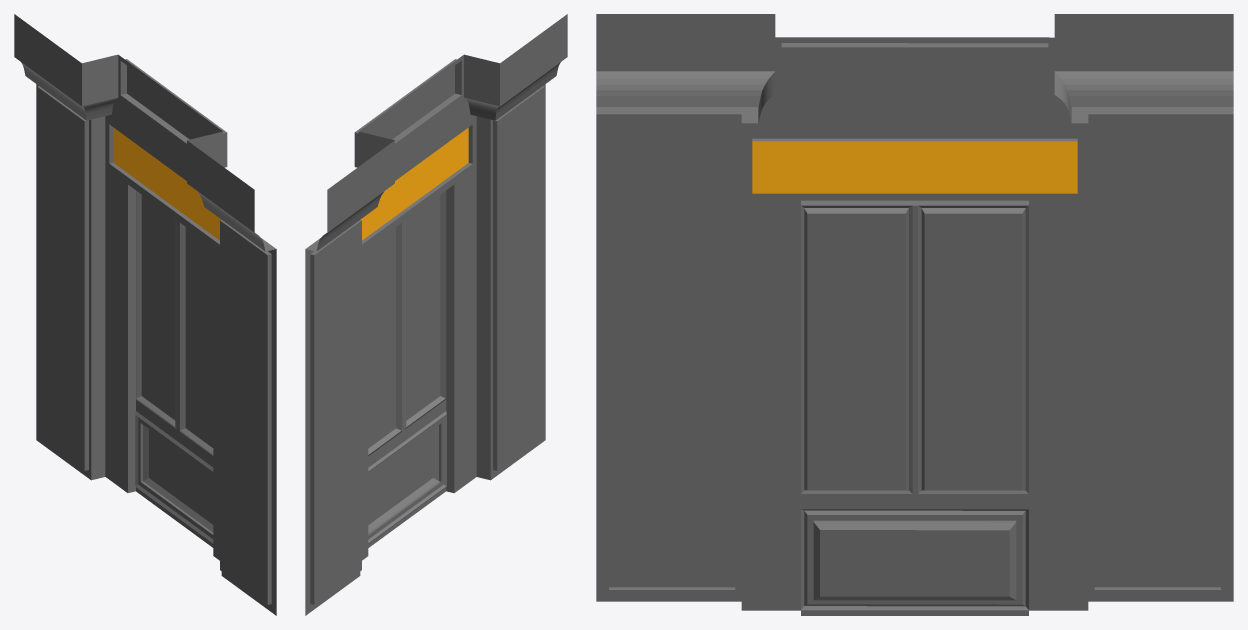
The model's file is O2_Facade_Porte_Dans_2_Poteaux.fbx.
3 views of the same model, side by side, from view 1: azimuth 30°, elevation 25°; view 2: azimuth 150°, elevation 25°; view 3: azimuth 270°, elevation 25° (orthographic). The views are drawn at different scales.
Parts seen in each view (by area): view 1: O_Facade_Porte_Dans_2_Poteaux; view 2: O_Facade_Porte_Dans_2_Poteaux; view 3: O_Facade_Porte_Dans_2_Poteaux.
Part boxes in pixels (x1,y1,x2,y2): O_Facade_Porte_Dans_2_Poteaux: [14, 14, 276, 615]; O_Facade_Porte_Dans_2_Poteaux: [305, 14, 567, 615]; O_Facade_Porte_Dans_2_Poteaux: [596, 14, 1233, 615].
Size of the model in its own units: 0.3642 by 3.02 by 3.
